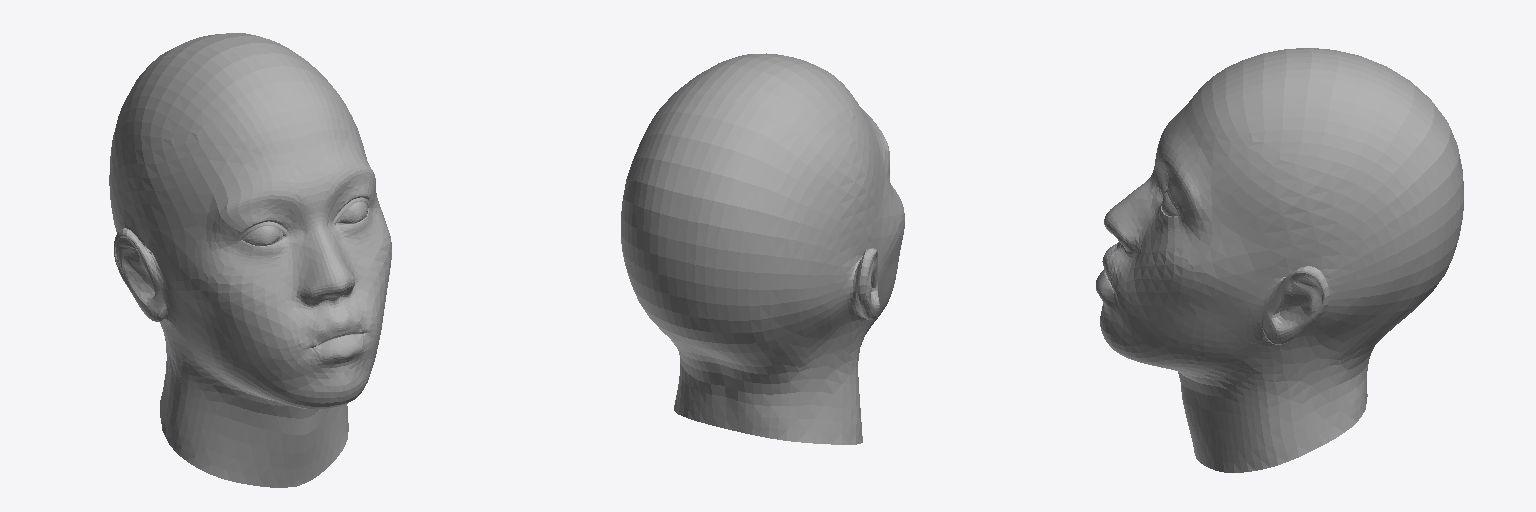
Rendered from newhead.obj.
3 views of the same model, side by side, from view 1: azimuth 30°, elevation 25°; view 2: azimuth 150°, elevation 25°; view 3: azimuth 270°, elevation 25° (orthographic).
Visible parts, largest first — view 1: FaceGen; view 2: FaceGen; view 3: FaceGen.
Boxes of the visible parts, box(x1,y1,x2,y2) form: FaceGen: box(109, 33, 391, 487); FaceGen: box(621, 53, 904, 444); FaceGen: box(1096, 48, 1463, 472).
Bounding box in the file's own units: 181 × 284 × 239.